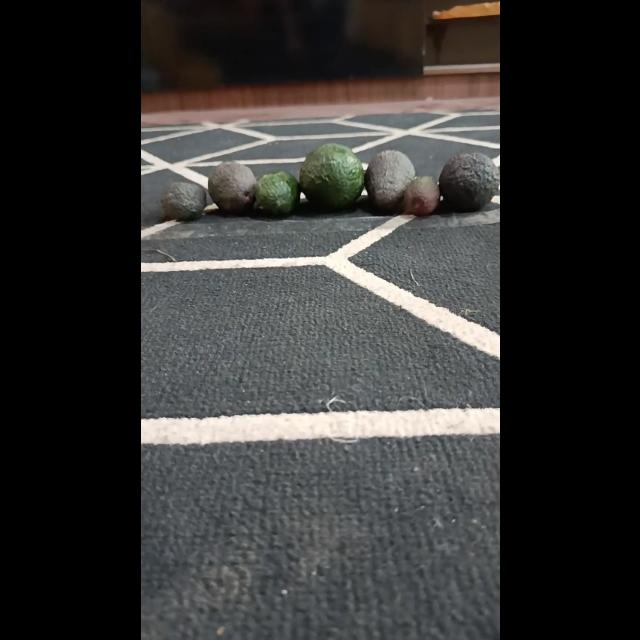Primera: (297, 142, 365, 212), (437, 152, 498, 212)
Segunda: (364, 150, 416, 214), (206, 162, 256, 214), (252, 171, 298, 217)
Tercera: (158, 181, 206, 223), (400, 174, 440, 216)
